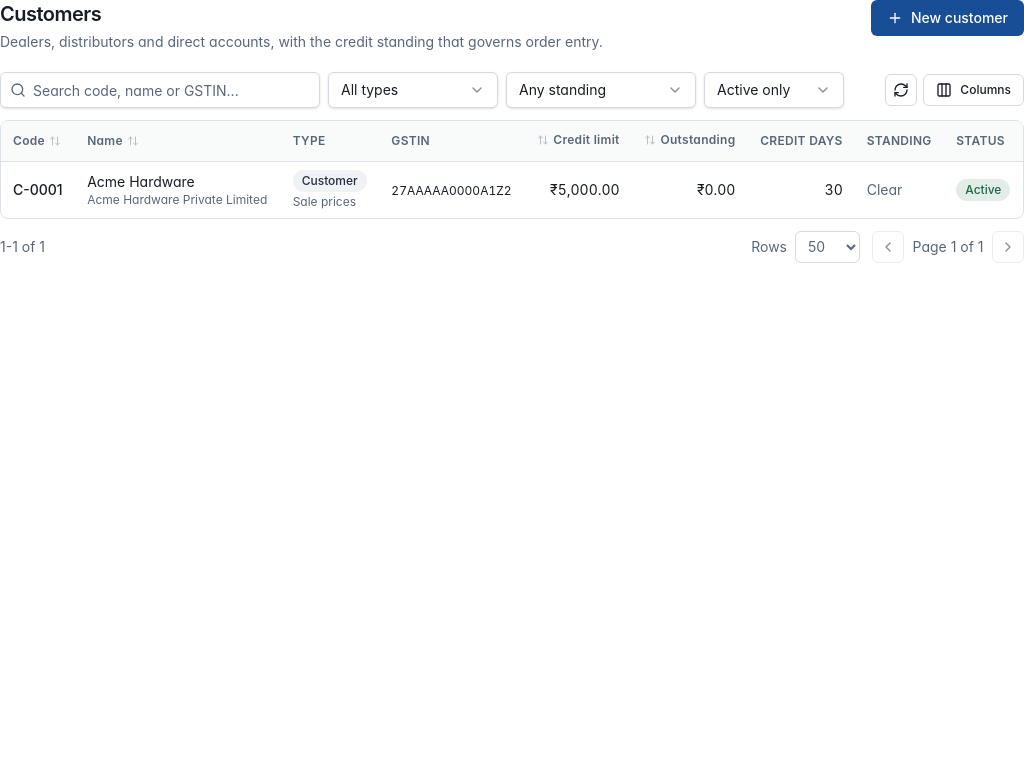
Scenario: what the account form sends › refuses a limited account with no figure rather than guessing
This screenshot has width=1024, height=768.
Click the button "New customer" at (947, 18), box 871,0 -> 1023,36
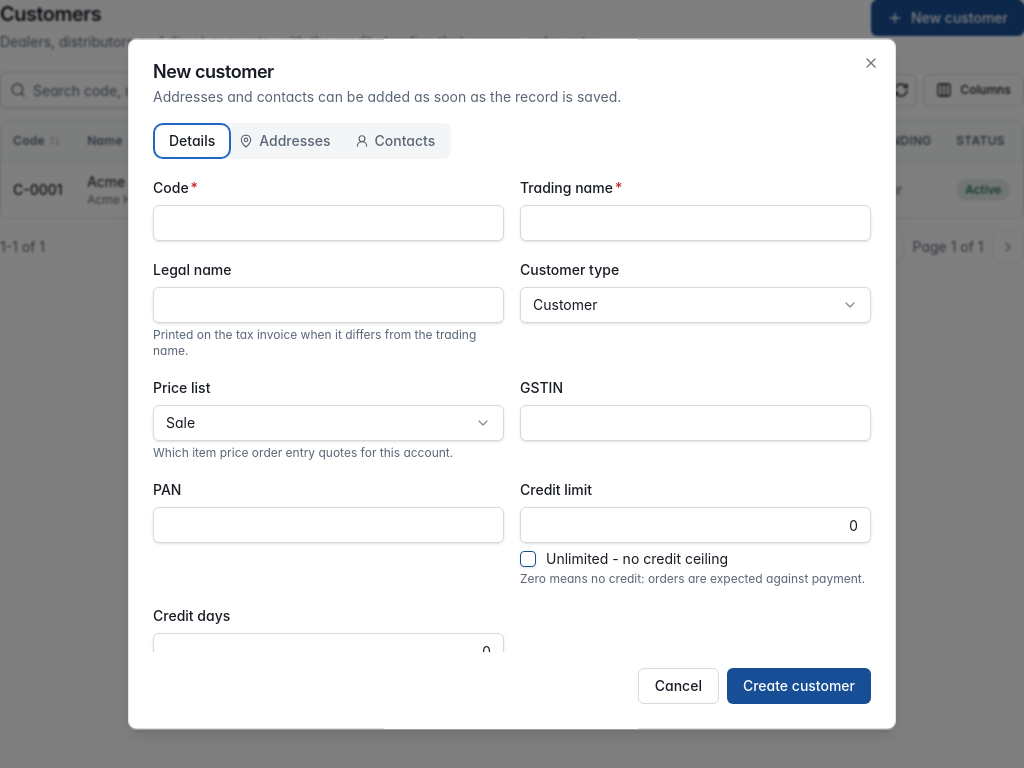
Check: the dialog is shown
Type "C-0004" into the field labelled "Code*" at (328, 223), box 153,205 -> 504,241
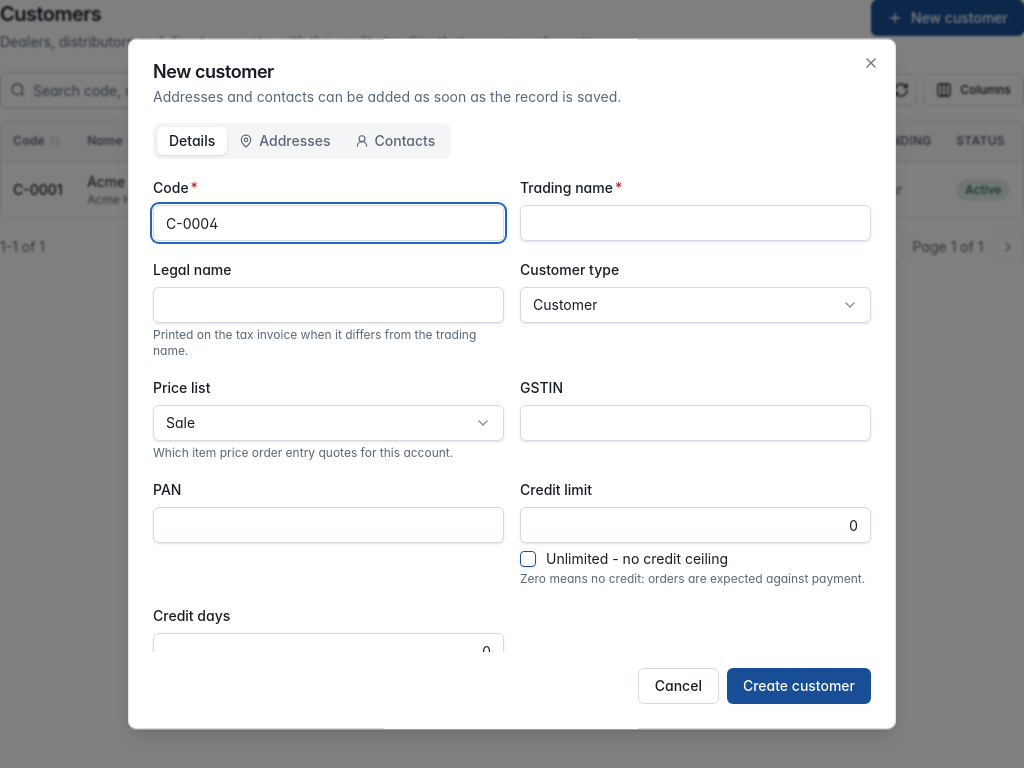
Type "Sundar Traders" into the field labelled "Trading name*" at (696, 223), box 520,205 -> 871,241
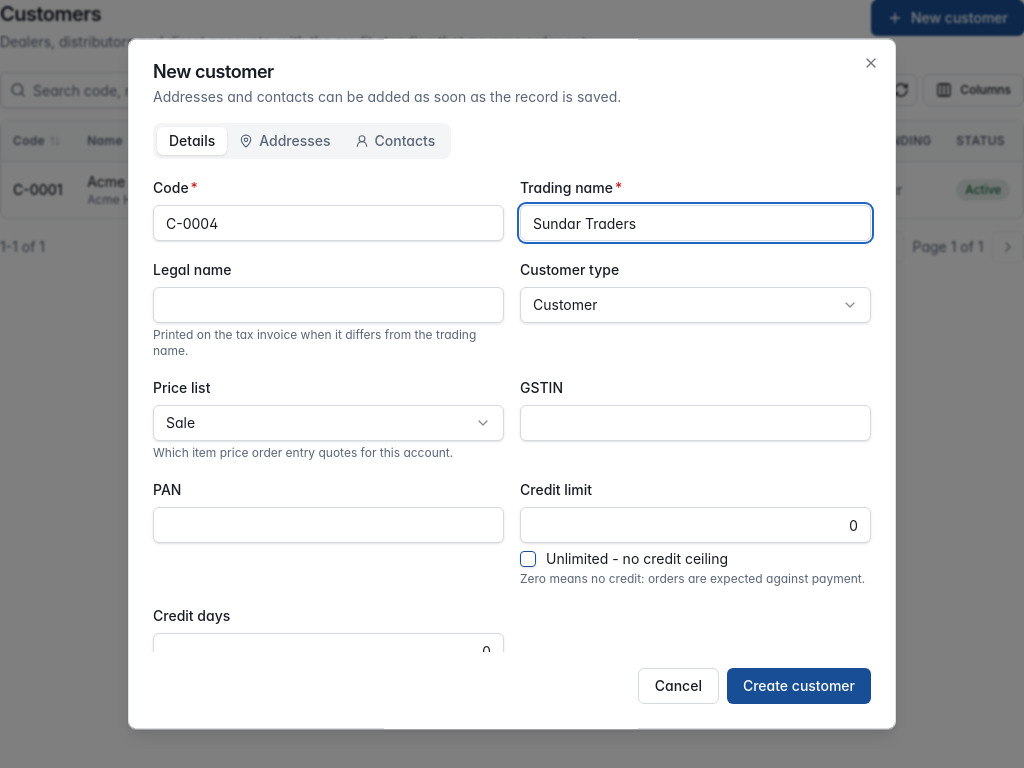
Clear the field labelled "Credit limit" at (696, 525), box 520,507 -> 871,543
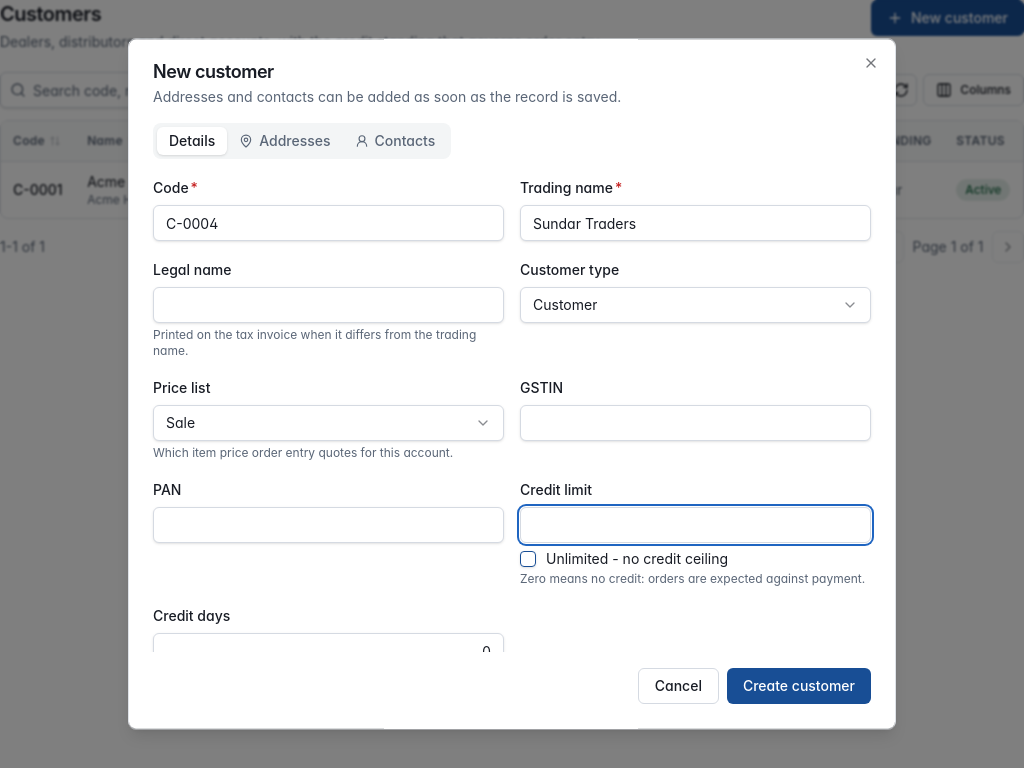
Click the button "Create customer" at (799, 687), box 727,669 -> 871,705
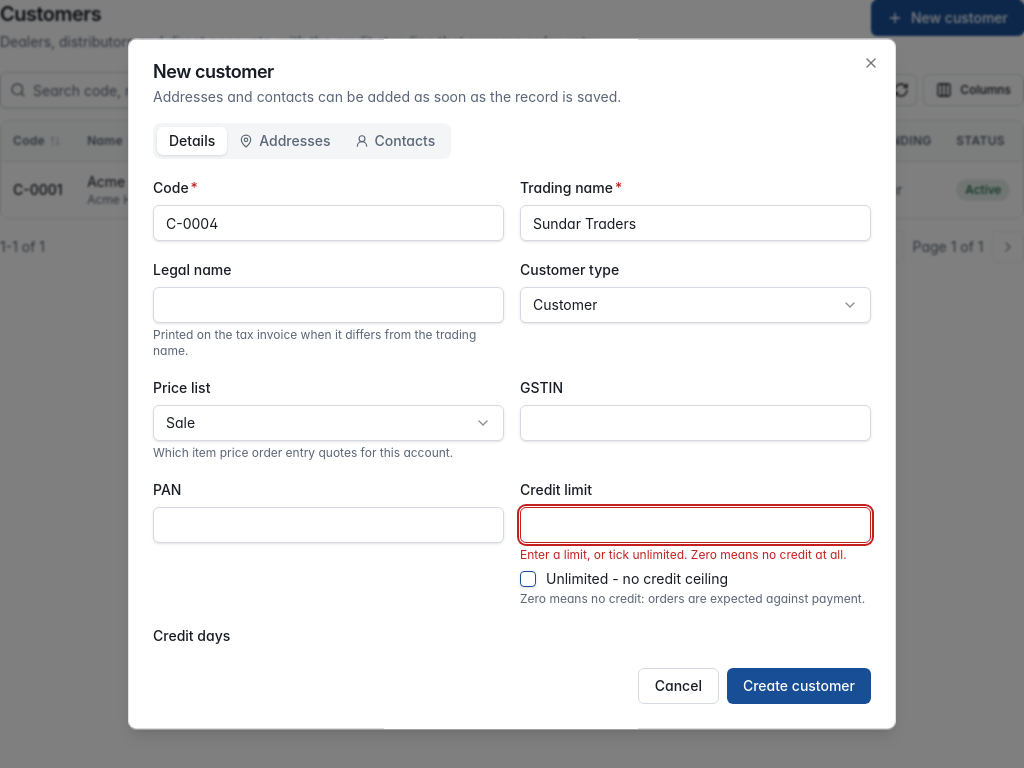
Check: the text "Enter a limit, or tick unlimited. Zero means no credit at all." is shown, box 520,547 -> 871,563
